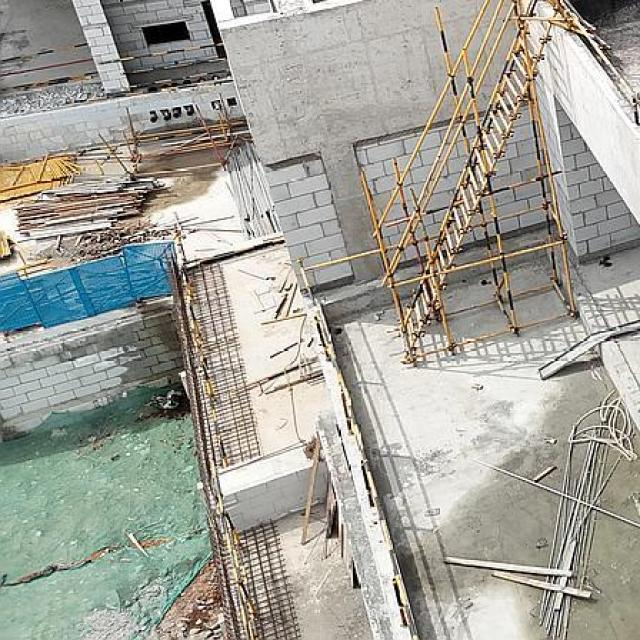edge_guardrail: (300, 204, 546, 639), (180, 279, 230, 472), (557, 0, 639, 104), (210, 477, 254, 640), (99, 43, 231, 90), (0, 41, 90, 65)
